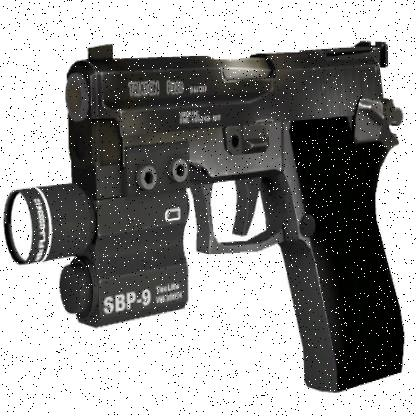pistol: (15, 38, 401, 395)
